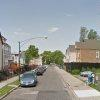cars: (20, 71, 40, 87)
